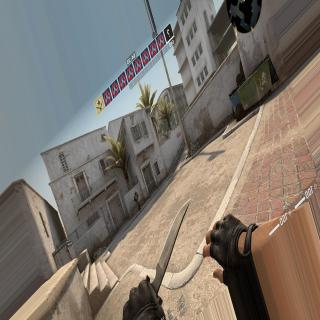CT-Body: (134, 190, 141, 211)
CT-Head: (134, 191, 136, 195)
